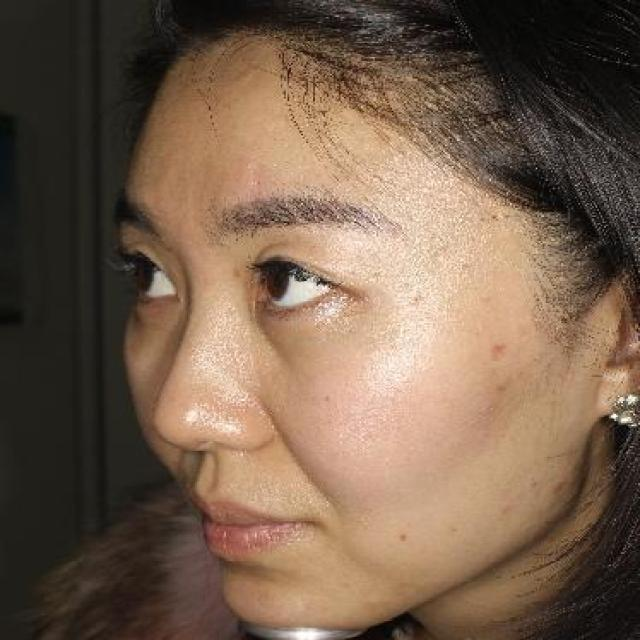dark spot: (484, 335, 518, 360), (524, 474, 548, 495), (551, 477, 570, 495), (491, 381, 512, 397)
whiteheads: (409, 288, 433, 308), (344, 266, 364, 282), (368, 268, 390, 280)
